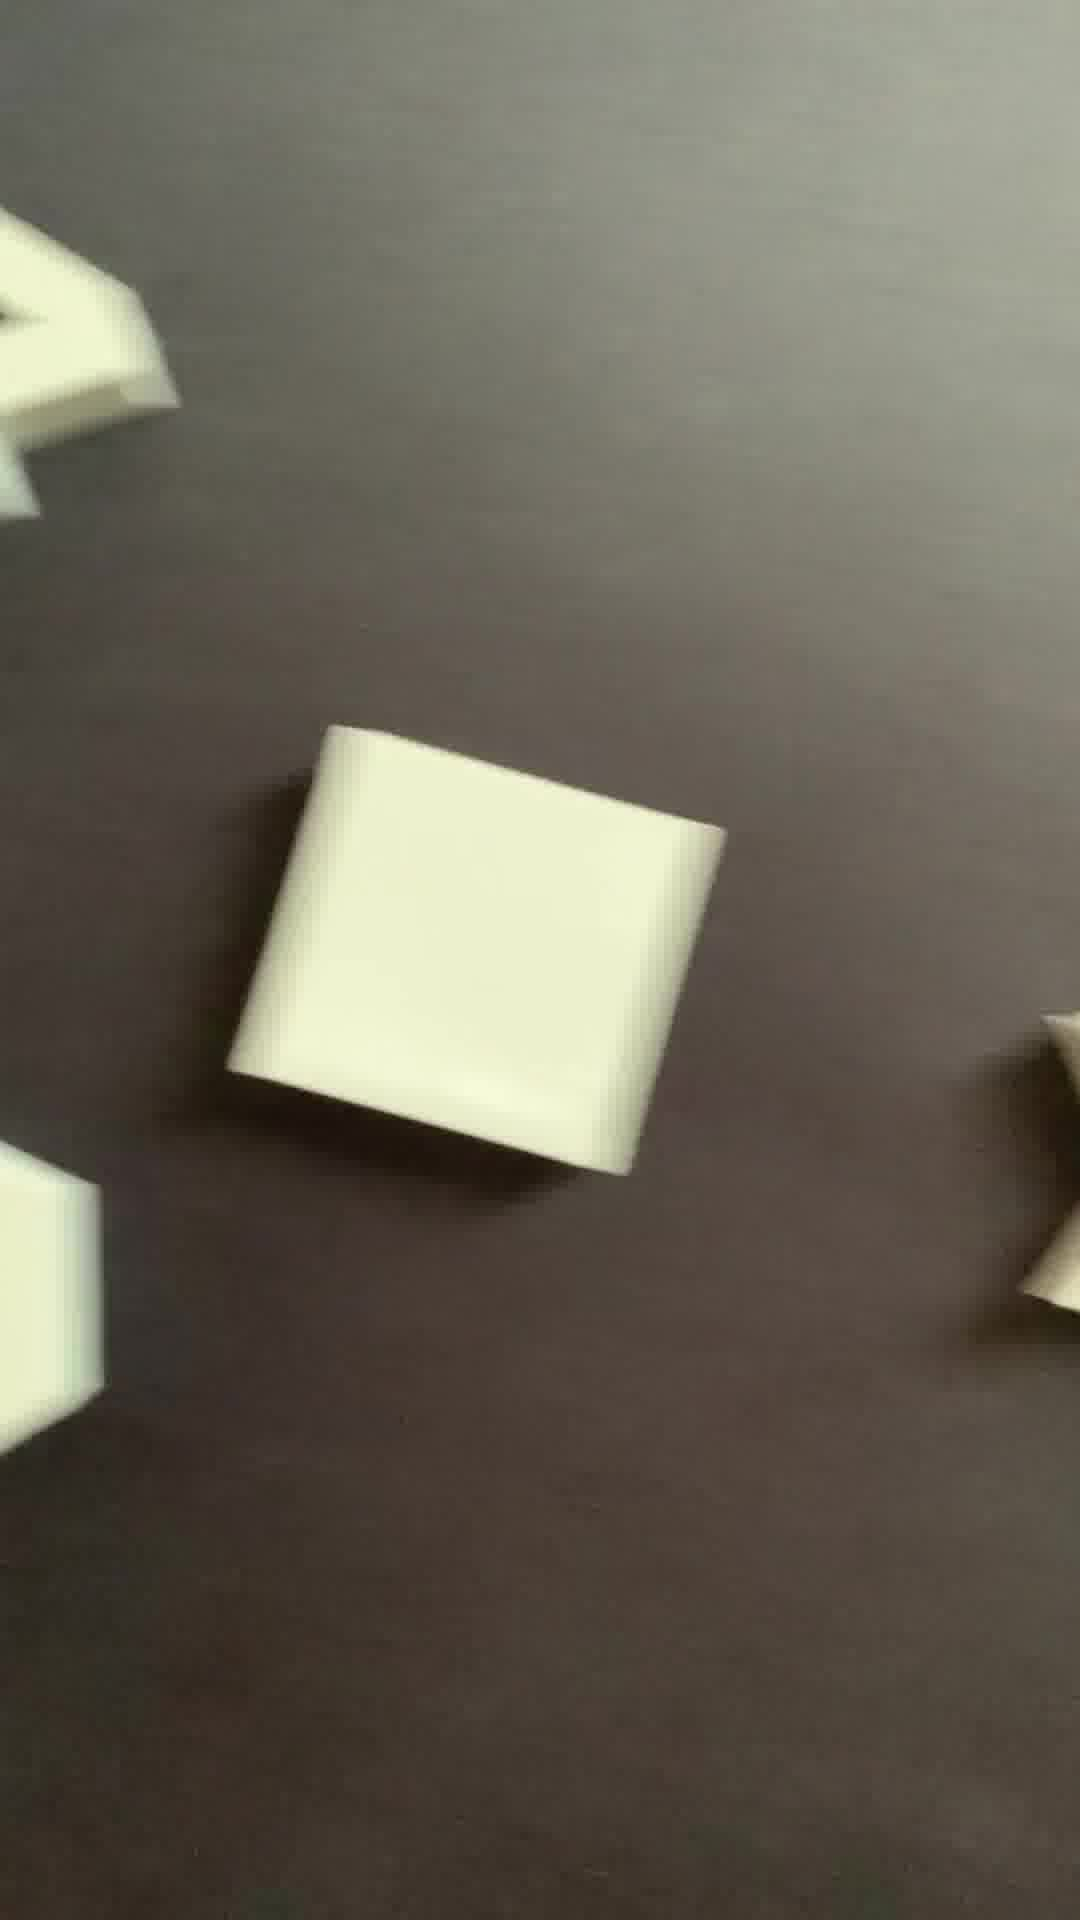Gray square: (241, 717, 771, 1228)
